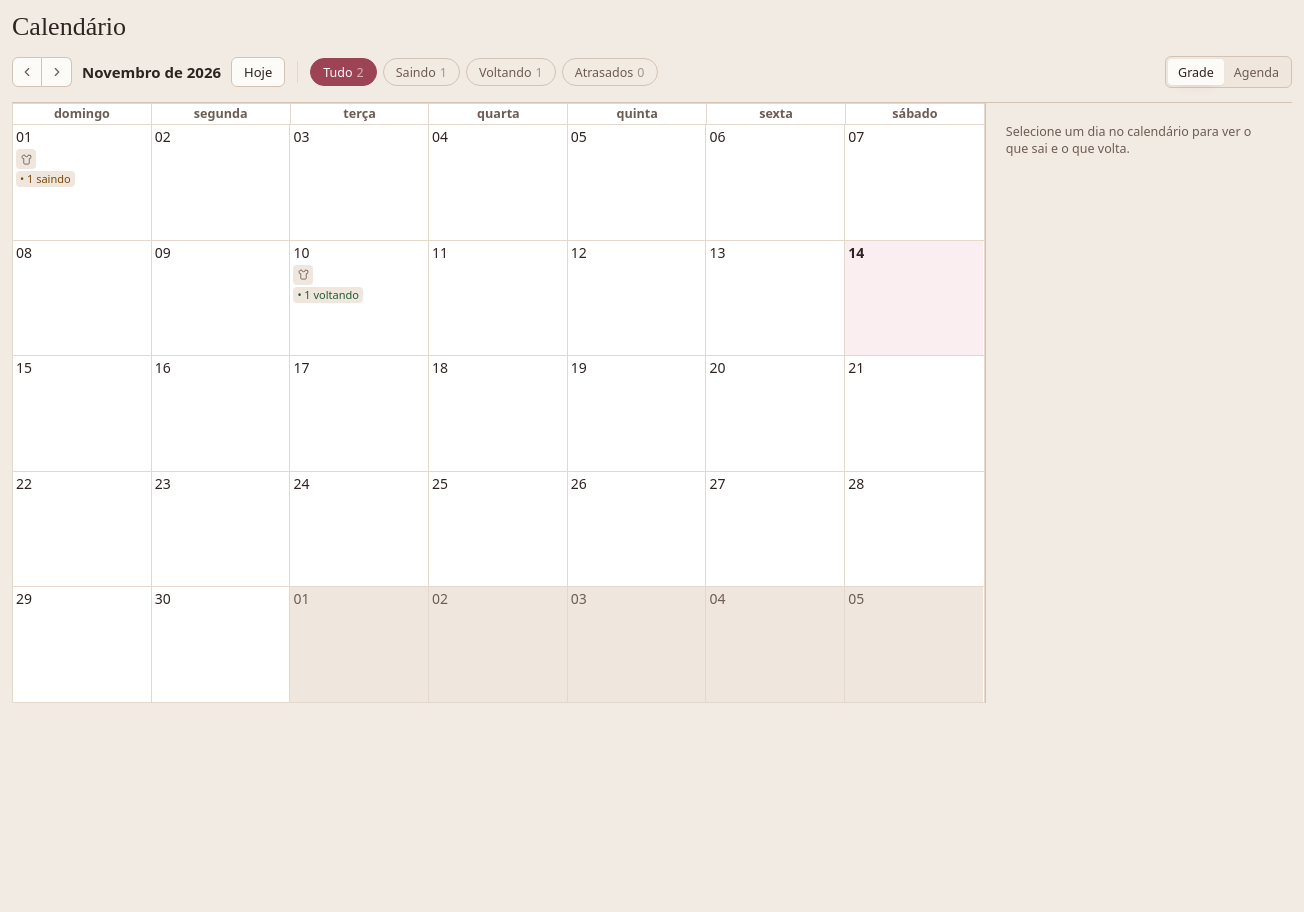
Test: CalendarPage › shows what goes out and what comes back together on arrival, before any chip is touched
Expected: the table with class "rbc-month-view" is shown, x1=12 y1=103 x2=985 y2=703
Expected: the text "• 1 saindo" is shown, x1=16 y1=171 x2=75 y2=187
Step 1. Click the button "Saindo1" → (421, 72), box x1=383 y1=58 x2=460 y2=86
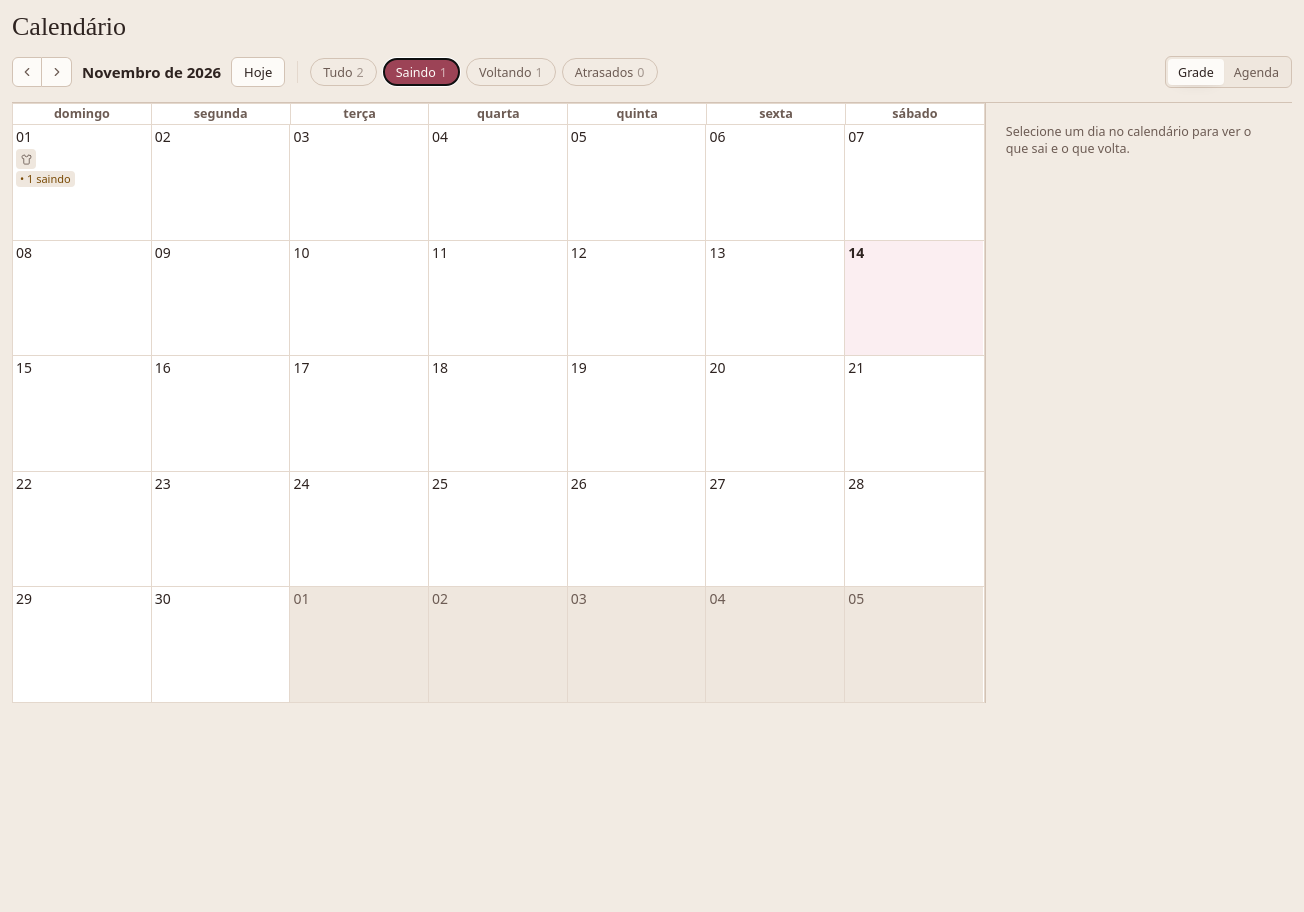
Expected: the text "• 1 saindo" is shown, x1=16 y1=171 x2=75 y2=187
Expected: the text "• 1 voltando" is gone
